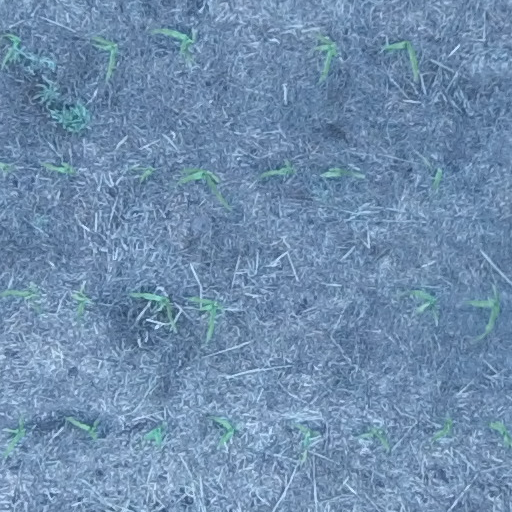planta: (170, 163, 234, 213), (126, 288, 180, 334), (463, 285, 503, 343), (145, 24, 199, 66), (184, 293, 223, 347), (380, 37, 423, 83), (309, 28, 341, 84), (88, 32, 121, 83), (395, 285, 441, 321), (204, 412, 243, 449), (291, 421, 323, 466), (355, 423, 393, 454), (62, 414, 101, 444), (68, 283, 95, 324), (256, 156, 300, 181), (427, 414, 456, 451), (319, 164, 365, 181), (139, 421, 165, 451), (38, 159, 79, 178), (128, 162, 158, 184), (429, 165, 446, 192)
